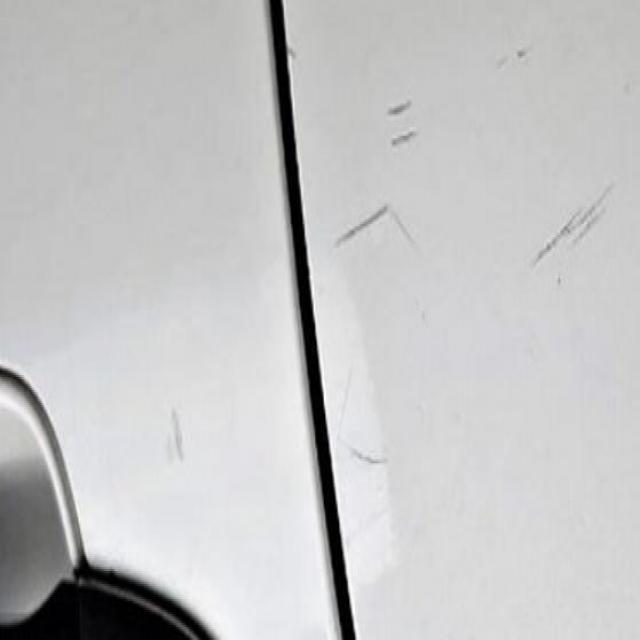scratch: (523, 164, 624, 298), (311, 186, 407, 286), (334, 430, 400, 506), (378, 79, 430, 167)
